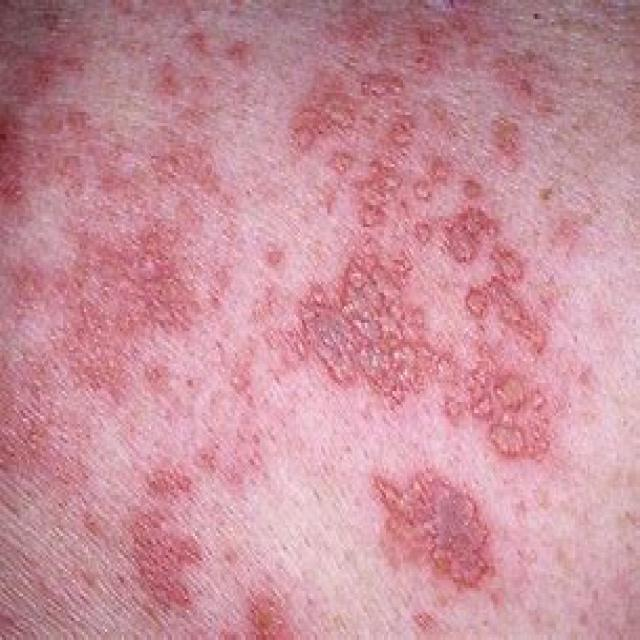Shingles: (16, 13, 591, 611)
